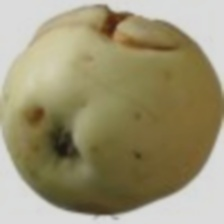apple: (37, 0, 192, 200)
